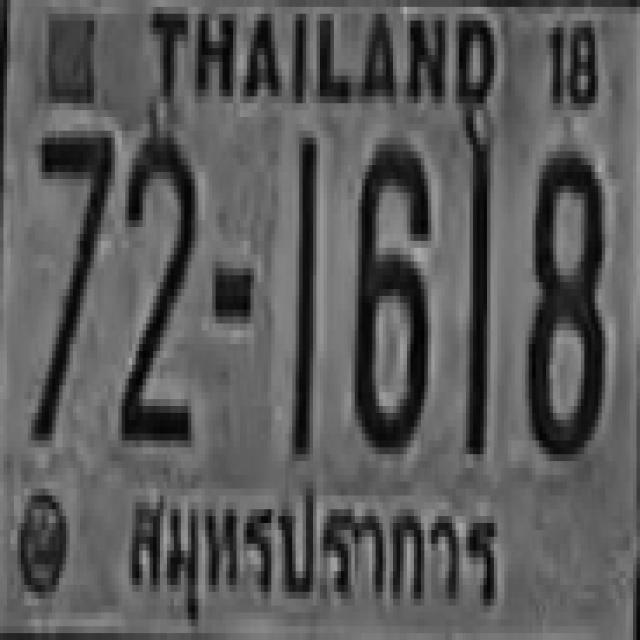1: (462, 120, 490, 451), (290, 127, 315, 451), (290, 134, 315, 451)
2: (118, 127, 192, 437)
6: (351, 138, 428, 447)
7: (32, 124, 112, 433)
8: (525, 145, 602, 454)
SamutPrakan: (124, 472, 517, 624)
